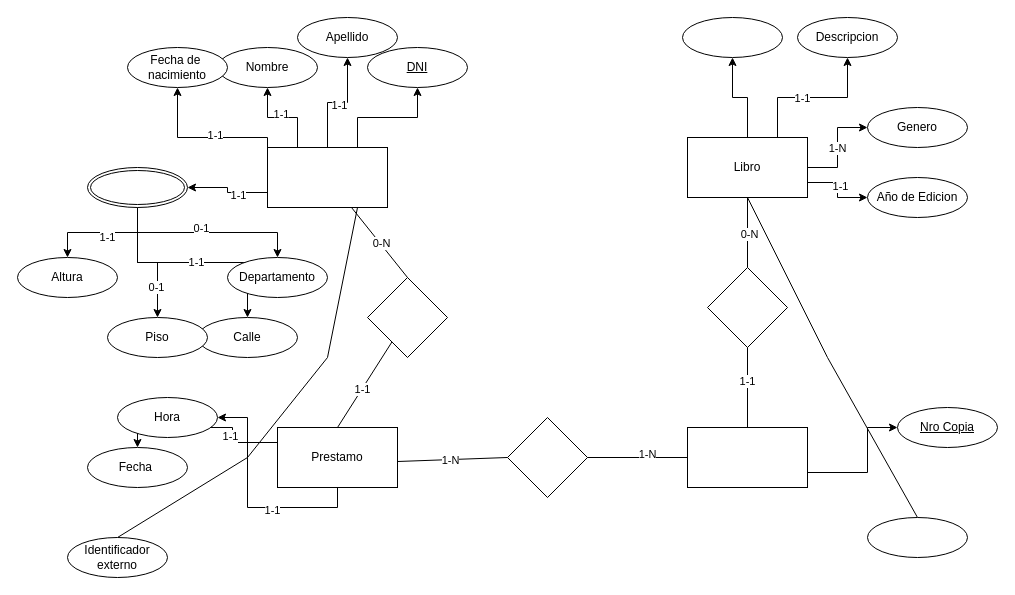
Some shapes in this 1015 by 595 pixel diagram are drawn without their labels. Here are the shapes that lost their labels. From the top down, the box of each, then its label:
(682, 16, 782, 58): ISBN
(86, 166, 188, 208): Direccion
(266, 146, 388, 208): Socio
(366, 276, 448, 358): Realiza
(706, 266, 788, 348): Tiene
(506, 416, 588, 498): Contiene
(686, 426, 808, 488): Copia de Libro
(866, 516, 968, 558): Atributo Externo
